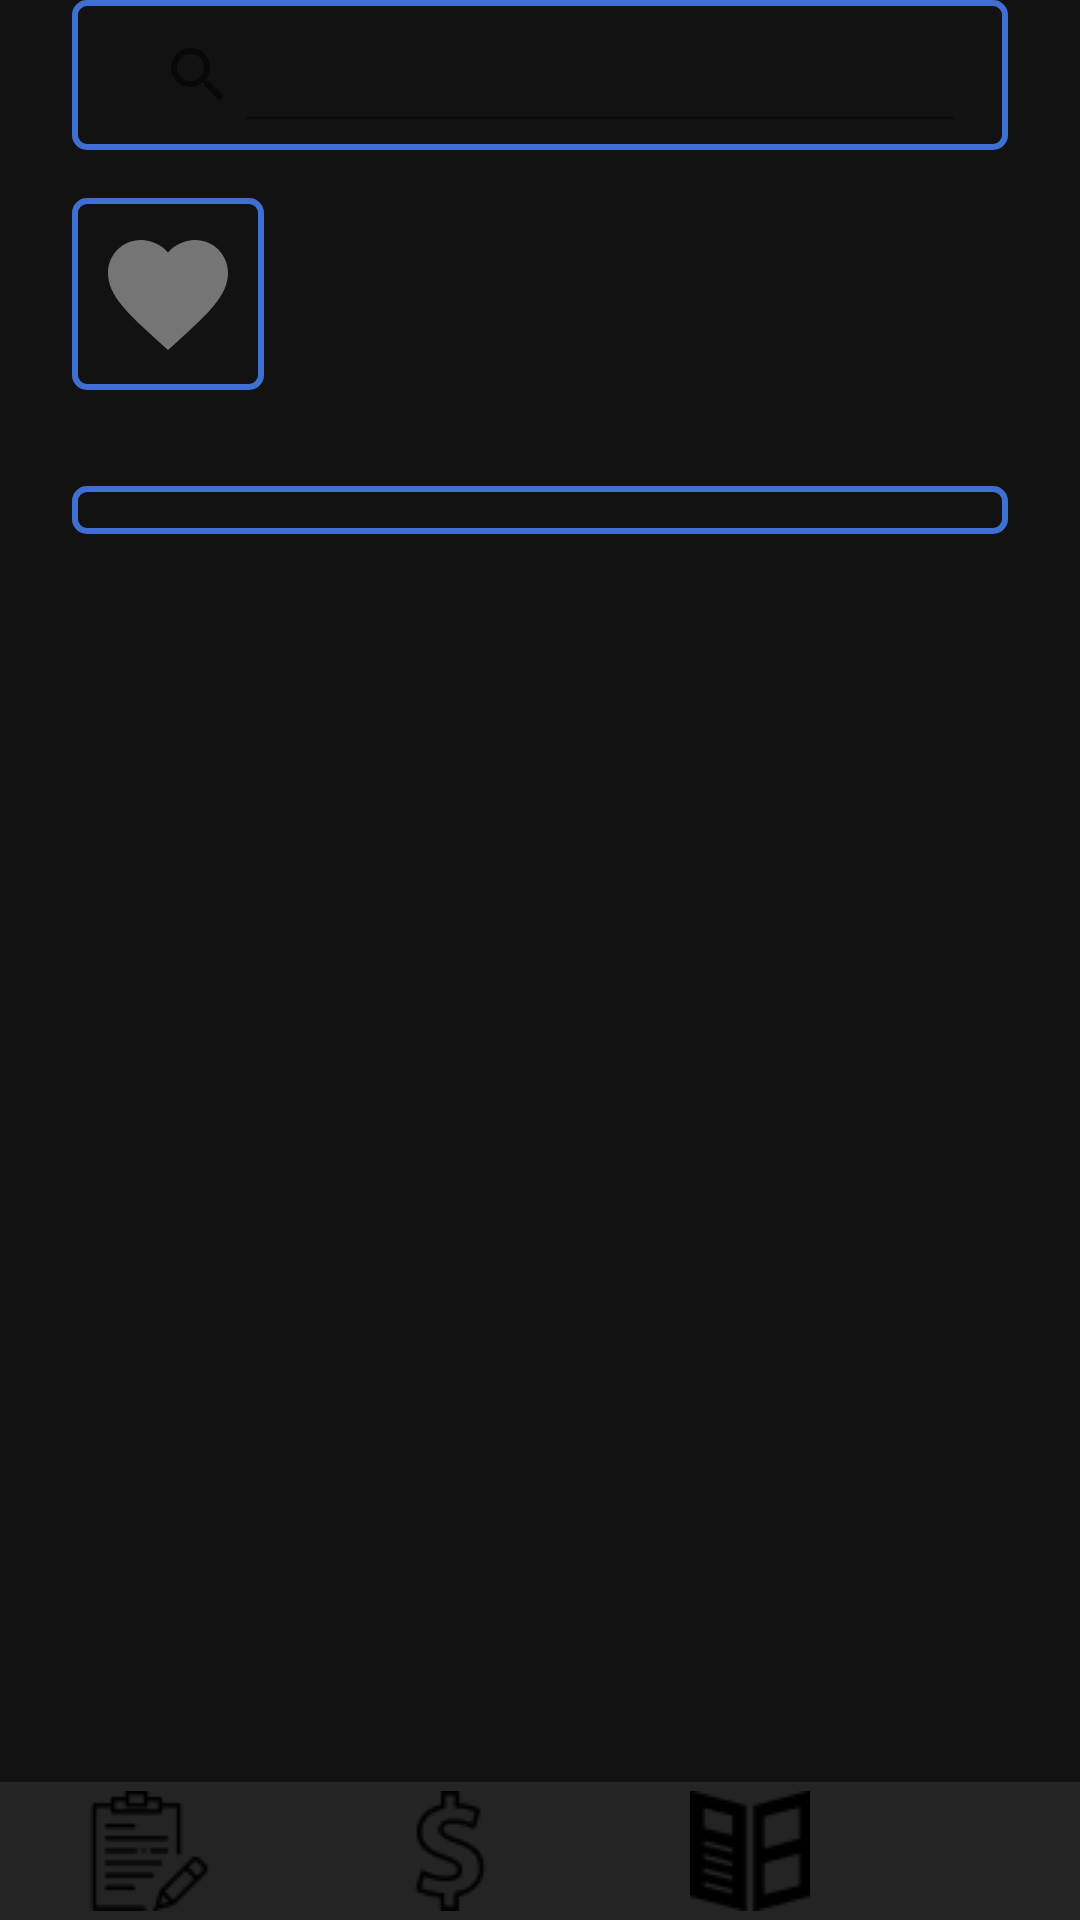

Screen size 1080 × 1920. Icon name, then its box in pixels as bbox=(x1, y1, x2, y2):
book: bbox=(690, 1791, 810, 1911)
dollar: bbox=(417, 1791, 483, 1911)
favorite: bbox=(72, 198, 264, 390)
notepad: bbox=(93, 1791, 207, 1911)
